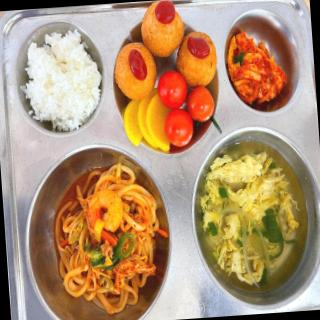Nasi: (17, 30, 105, 134)
